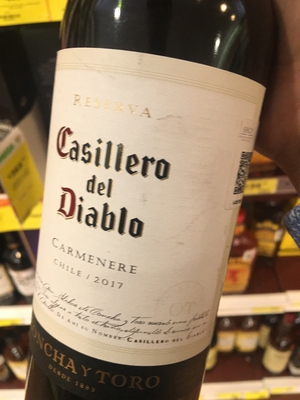casillero del diablo carmenere: (29, 9, 269, 400)
